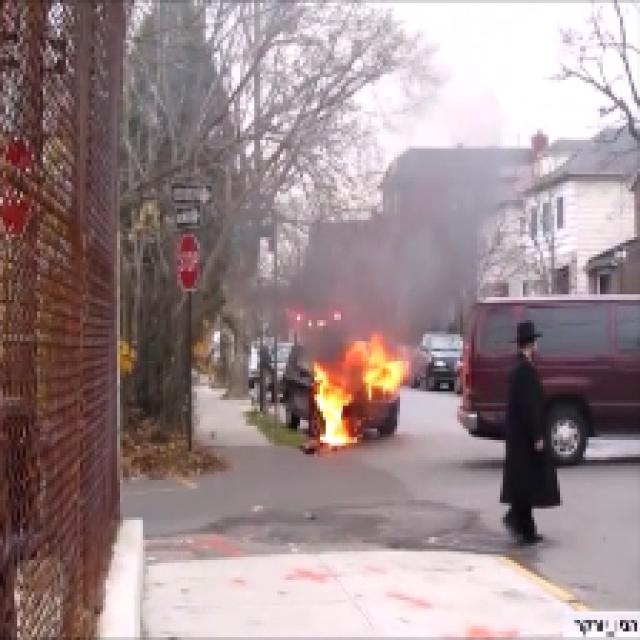fire: (303, 356, 355, 454), (355, 342, 410, 397)
smoke: (318, 237, 446, 329), (404, 164, 470, 233)
